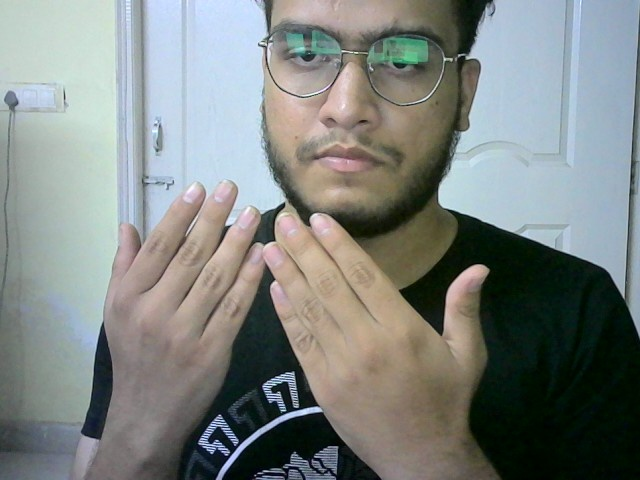Thank You: (98, 173, 495, 448)
